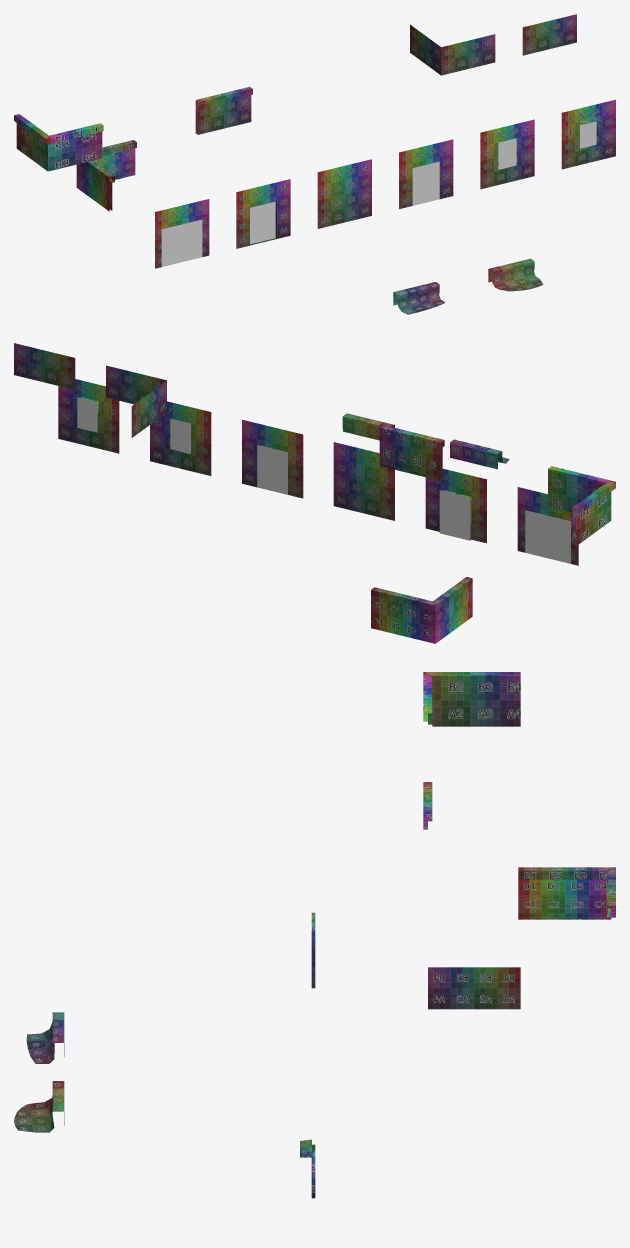
Rendered from Modular_assets_v4.glb.
The picture shows the model from 3 angles, top to bottom: view 1: azimuth 30°, elevation 25°; view 2: azimuth 150°, elevation 25°; view 3: azimuth 270°, elevation 25°; orthographic projection. The views are drawn at different scales.
Parts seen in each view (by area): view 1: wall_solid_corner_v1_4x4, wall_window_v1_4x4, wall_window_v2_4x4, wall_door_4x4 v1, wall_door_v2 4x4, wall_4x4, wall_door_4x4_v3, wall_corner_v1_4x2, wall_solid_inner corner_v1_4x4, wall_solid_v1_4x4, wall_v1_4x2, tarpaulin 2 (+1 smaller); view 2: wall_solid_inner corner_v1_4x4, wall_door_4x4 v1, wall_door_v2 4x4, wall_4x4, wall_window_v1_4x4, wall_window_v2_4x4, wall_door_4x4_v3, wall_solid_corner_v1_4x4, wall_solid_v1_4x4, wall_corner_v1_4x2, wall_v1_4x2, tarpaulin 1 (+1 smaller); view 3: wall_solid_corner_v1_4x4, wall_solid_inner corner_v1_4x4, wall_corner_v1_4x2, tarpaulin 2, tarpaulin 1.
Part boxes in pixels (box(x1,y1,x2,y2)): wall_solid_corner_v1_4x4: box(14, 114, 103, 171); wall_window_v1_4x4: box(480, 119, 534, 189); wall_window_v2_4x4: box(561, 99, 615, 169); wall_door_4x4 v1: box(399, 139, 453, 209); wall_door_v2 4x4: box(236, 179, 290, 248); wall_4x4: box(317, 159, 371, 228); wall_door_4x4_v3: box(155, 199, 209, 268); wall_corner_v1_4x2: box(410, 24, 495, 75); wall_solid_inner corner_v1_4x4: box(76, 140, 136, 211); wall_solid_v1_4x4: box(195, 87, 252, 134); wall_v1_4x2: box(522, 14, 576, 55); tarpaulin 2: box(488, 258, 543, 291); wall_solid_inner corner_v1_4x4: box(371, 577, 472, 643); wall_door_4x4 v1: box(242, 419, 303, 498); wall_door_v2 4x4: box(425, 468, 486, 543); wall_4x4: box(333, 442, 394, 520); wall_window_v1_4x4: box(150, 401, 211, 475); wall_window_v2_4x4: box(58, 379, 119, 453); wall_door_4x4_v3: box(517, 487, 578, 565); wall_solid_corner_v1_4x4: box(548, 466, 615, 546); wall_solid_v1_4x4: box(379, 425, 444, 480); wall_corner_v1_4x2: box(106, 365, 166, 437); wall_v1_4x2: box(14, 343, 75, 389); tarpaulin 1: box(450, 439, 509, 469); wall_solid_corner_v1_4x4: box(423, 672, 520, 726); wall_solid_inner corner_v1_4x4: box(518, 867, 615, 919); wall_corner_v1_4x2: box(428, 967, 520, 1009); tarpaulin 2: box(14, 1081, 64, 1132); tarpaulin 1: box(26, 1012, 64, 1063).
Bounding box in the file's own units: 39.2 × 9.4 × 25.92.
6 materials, 3 textured.
